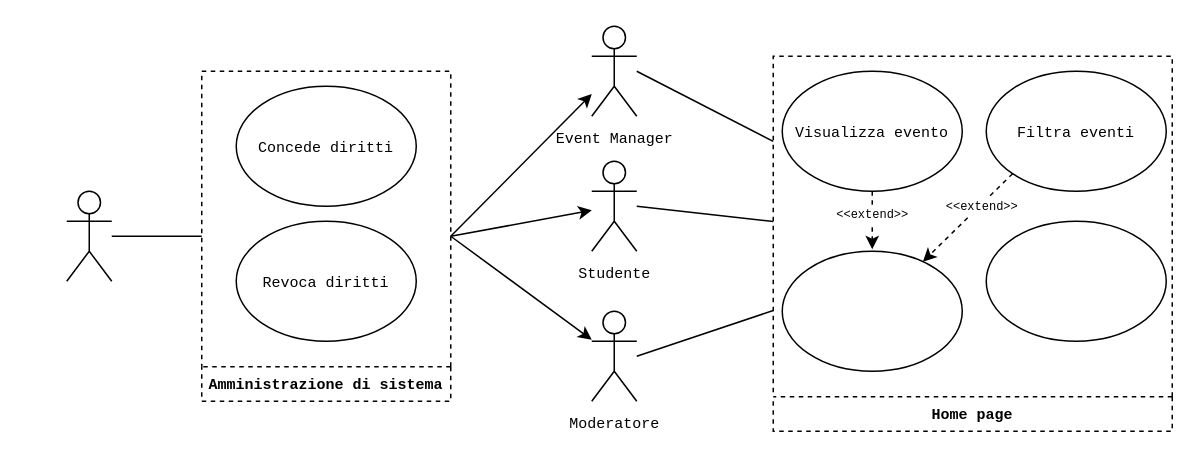
The diagram is 1199 pixels wide and 461 high, and some of its shapes have lost their labels. The shapes that lost their labels are listed below. From the top down, each one's centre as x and y in pixels, then its label:
At (88,235): "Amministratore".
At (1075,280): "Visualizza calendario".
At (871,310): "Visualizza lista eventi".
